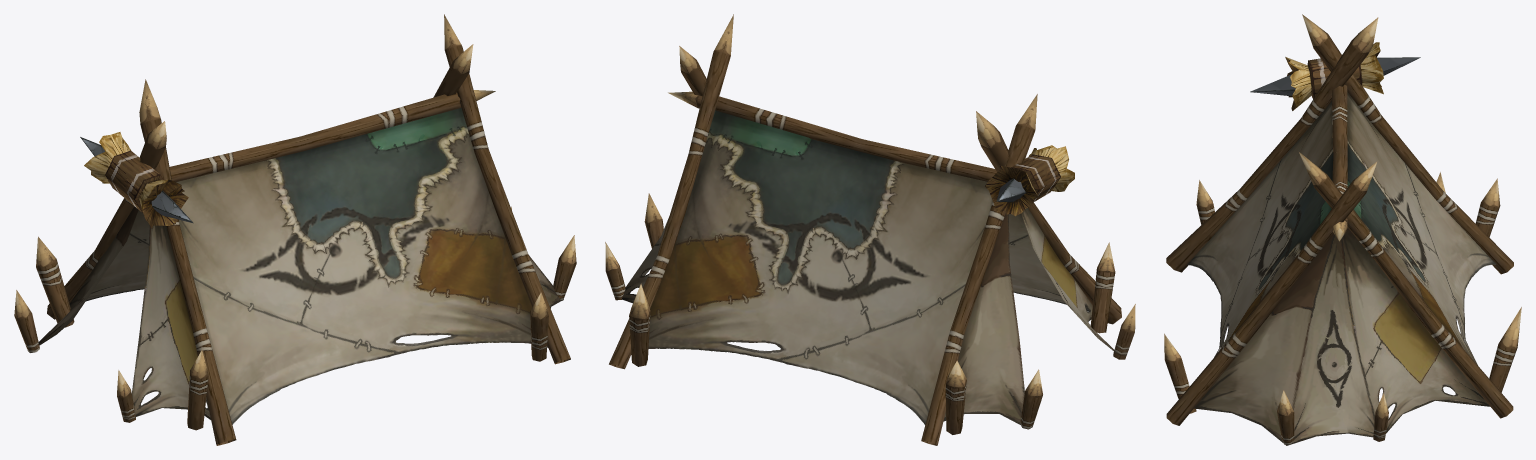
Rendered from 2_GBL_ZhangPeng_01.FBX.
The picture shows the model from 3 angles, left to right: view 1: azimuth 30°, elevation 25°; view 2: azimuth 150°, elevation 25°; view 3: azimuth 270°, elevation 25°; orthographic projection. The views are drawn at different scales.
Parts seen in each view (by area): view 1: 2_GBL_ZhangPeng_01; view 2: 2_GBL_ZhangPeng_01; view 3: 2_GBL_ZhangPeng_01.
Boxes of the visible parts, x1,y1,x2,y2 form: 2_GBL_ZhangPeng_01: (14,14,576,445); 2_GBL_ZhangPeng_01: (605,14,1135,445); 2_GBL_ZhangPeng_01: (1164,14,1521,445).
Bounding box in the file's own units: 910 × 515 × 627.
